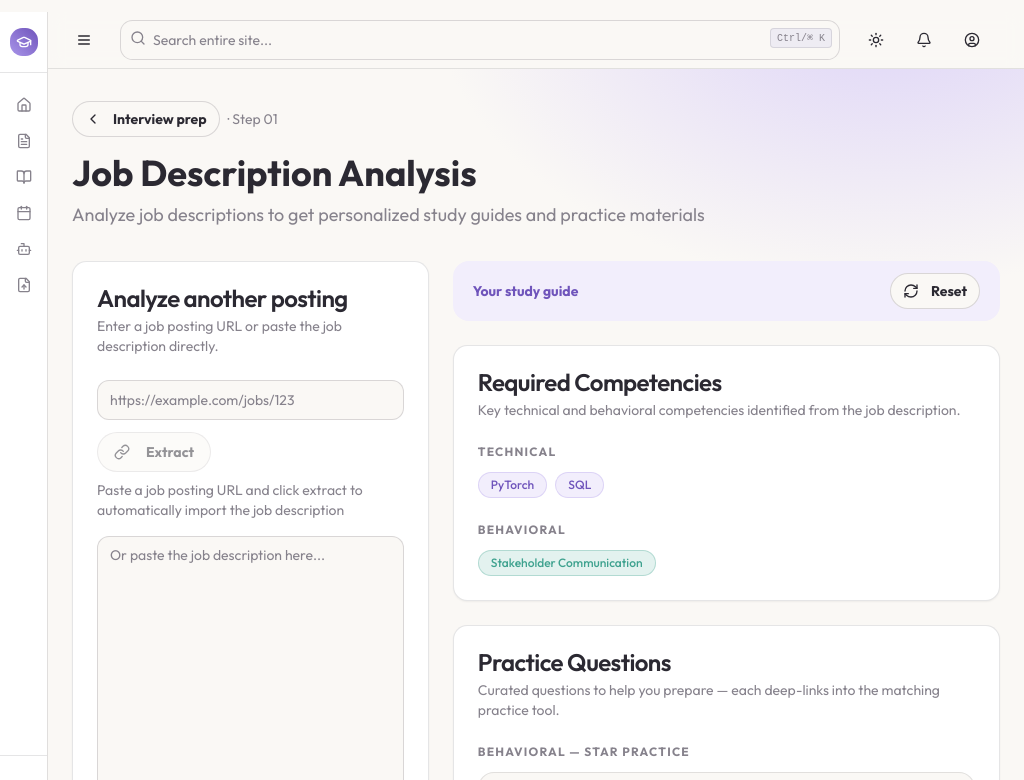
Test: JobDescription page (Split Desk) › reset clears the study guide back to the empty state
This screenshot has width=1024, height=780.
Click the button "Reset": click(935, 291) top-left (890, 273), bottom-right (980, 309)
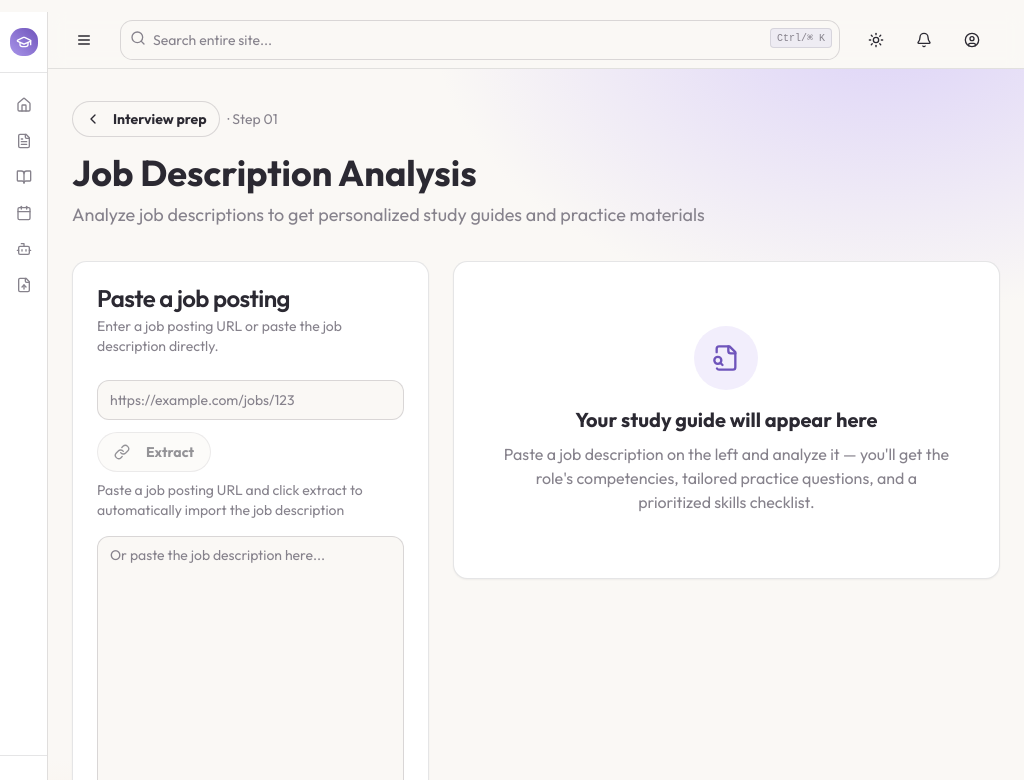
Check: the heading "Your study guide will appear here" is shown, box top-left (575, 406), bottom-right (878, 434)
Check: the heading "Required Competencies" is gone
